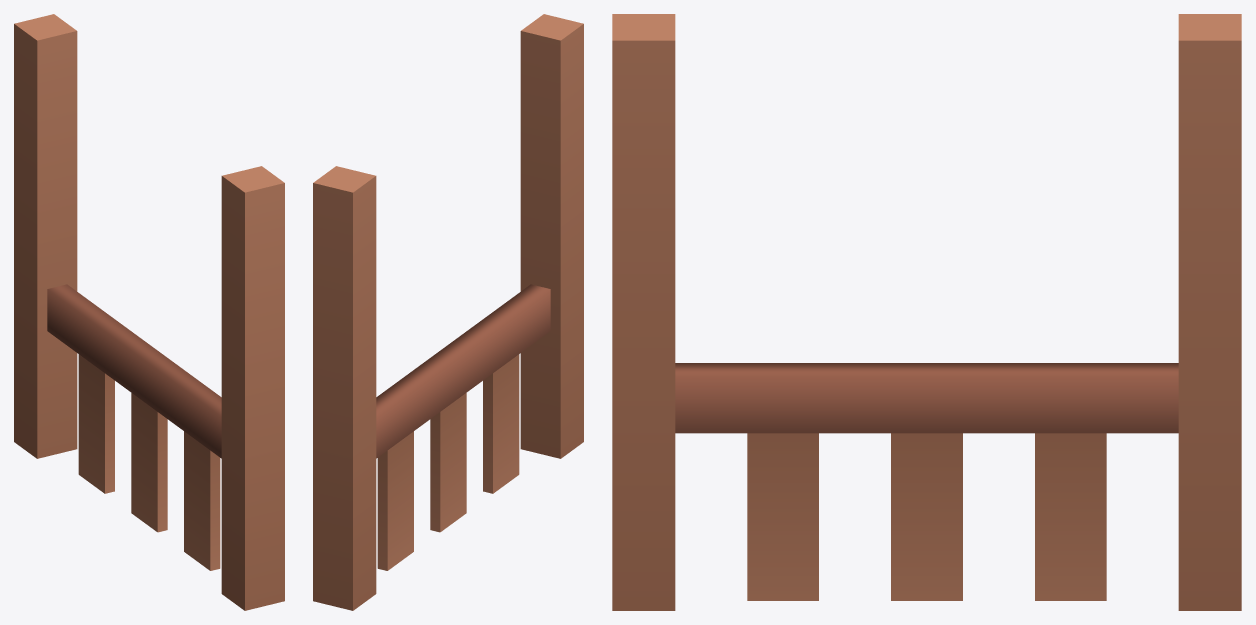
File: balcony-wall-fence-simplified.glb
3 views of the same model, side by side, from view 1: azimuth 30°, elevation 25°; view 2: azimuth 150°, elevation 25°; view 3: azimuth 270°, elevation 25° (orthographic). The views are drawn at different scales.
Visible parts, largest first — view 1: balcony-wall-fence; view 2: balcony-wall-fence; view 3: balcony-wall-fence.
Boxes of the visible parts, x1=… form: balcony-wall-fence: x1=14, y1=14, x2=284, y2=610; balcony-wall-fence: x1=313, y1=14, x2=583, y2=610; balcony-wall-fence: x1=612, y1=14, x2=1241, y2=610.
Bounding box in the file's own units: 0.1 × 1 × 1.
1 material, 1 textured.
